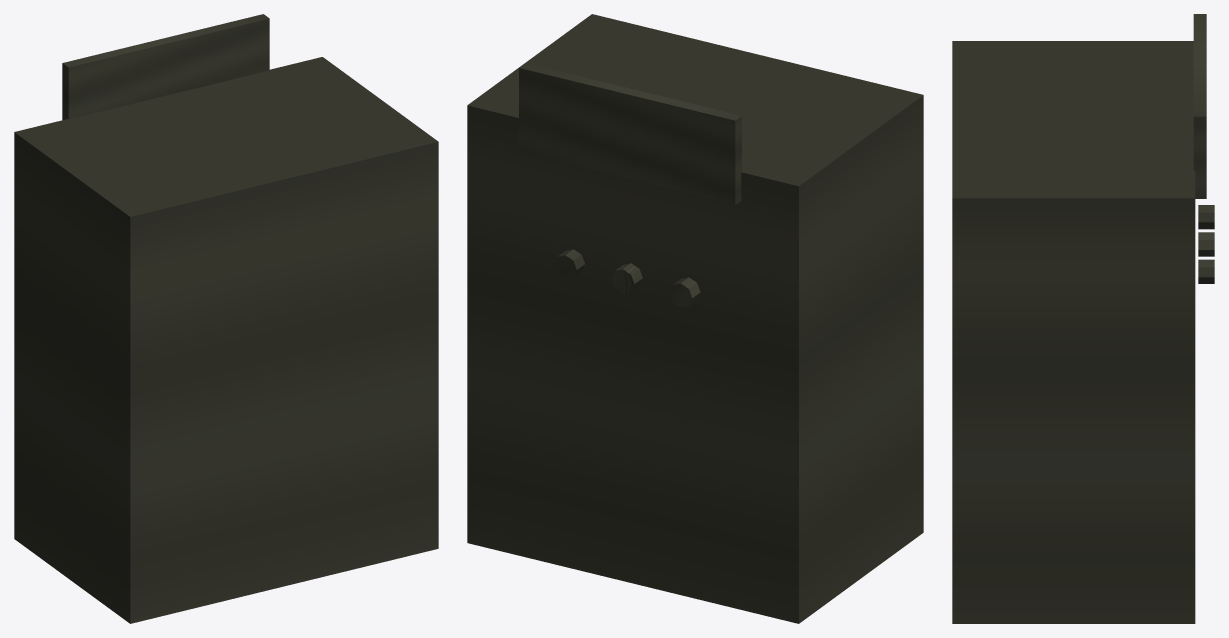
File: prop_target_silhouette_a.glb
3 renders of one model, left to right at view 1: azimuth 30°, elevation 25°; view 2: azimuth 150°, elevation 25°; view 3: azimuth 270°, elevation 25°, orthographic. The views are drawn at different scales.
Parts seen in each view (by area): view 1: prop_target_silhouette_a; view 2: prop_target_silhouette_a; view 3: prop_target_silhouette_a.
Part boxes in pixels (<box>): prop_target_silhouette_a: <box>14,14,438,623</box>; prop_target_silhouette_a: <box>467,14,923,623</box>; prop_target_silhouette_a: <box>952,14,1214,623</box>.
Bounding box in the file's own units: 1.15 × 1.66 × 0.81.
1 material, 1 textured.
